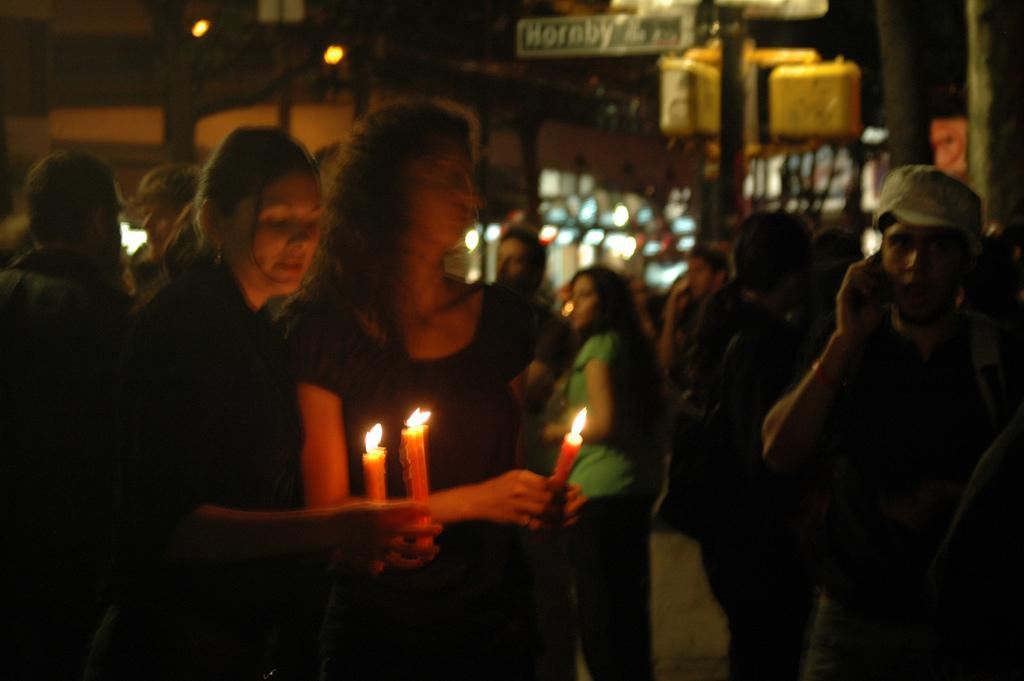fire: (565, 412, 603, 442), (367, 420, 392, 462), (402, 410, 450, 427)
